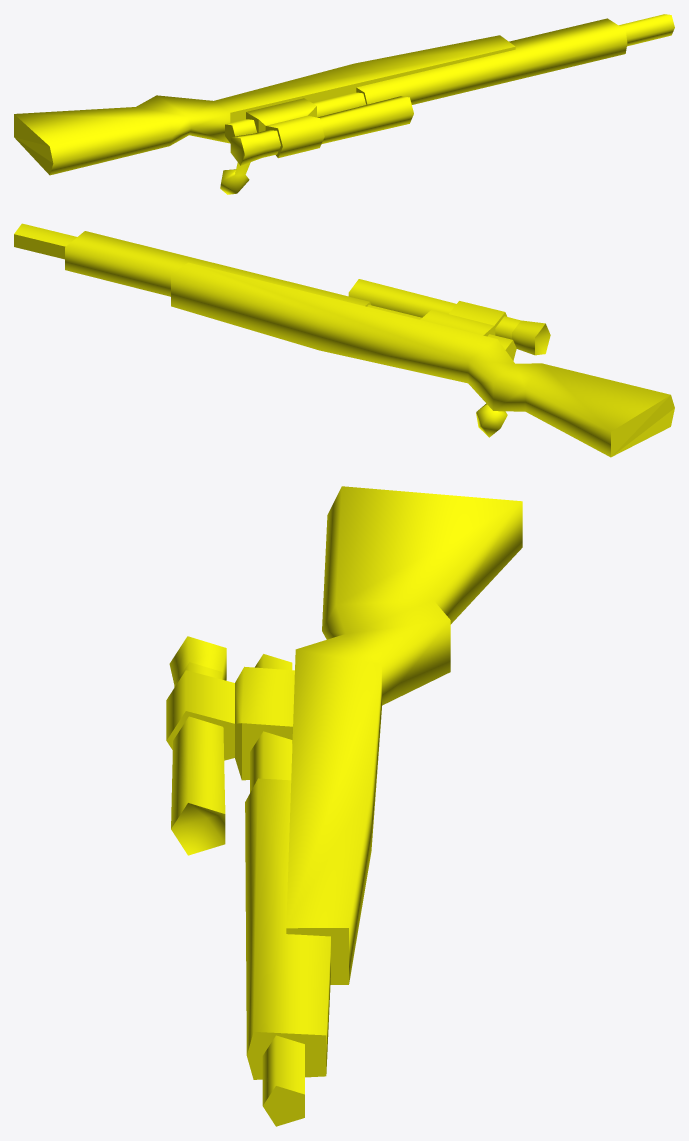
The model's file is weapon_springfield_scope.glb.
3 renders of one model, top to bottom at view 1: azimuth 30°, elevation 25°; view 2: azimuth 150°, elevation 25°; view 3: azimuth 270°, elevation 25°, orthographic. The views are drawn at different scales.
Visible parts, largest first — view 1: weapon_springfield_scope; view 2: weapon_springfield_scope; view 3: weapon_springfield_scope.
Boxes of the visible parts, bbox=[...] form: weapon_springfield_scope: bbox=[14, 14, 674, 194]; weapon_springfield_scope: bbox=[14, 223, 674, 457]; weapon_springfield_scope: bbox=[166, 486, 522, 1126].
Size of the model in its own units: 1.93 by 0.2642 by 0.491.
1 material, 1 textured.
